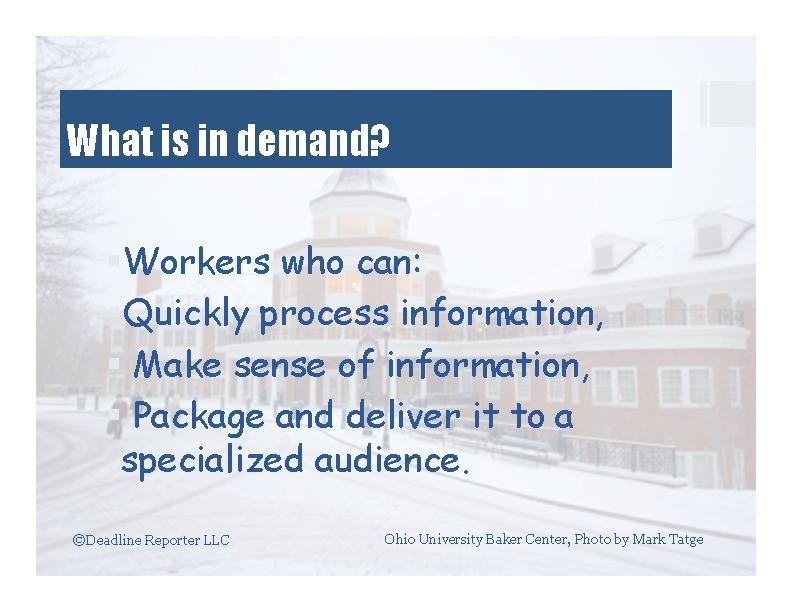paragraph: (97, 224, 661, 502)
title: (63, 112, 403, 171)
